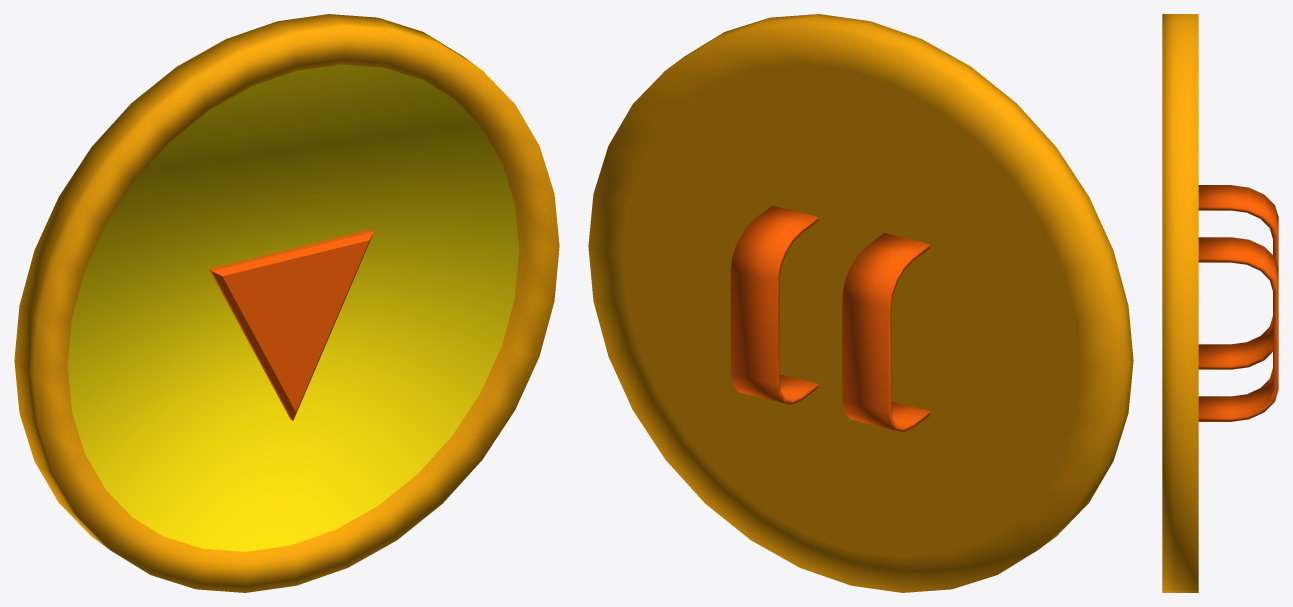
File: Madness Shield.fbx
3 renders of one model, left to right at view 1: azimuth 30°, elevation 25°; view 2: azimuth 150°, elevation 25°; view 3: azimuth 270°, elevation 25°, orthographic. The views are drawn at different scales.
Visible parts, largest first — view 1: Shield, Shield Logo; view 2: Shield, Shield Holders; view 3: Shield, Shield Holders.
Part boxes in pixels (x1,y1,x2,y2): Shield: (14,14,559,592); Shield Logo: (209,229,373,420); Shield: (588,14,1133,592); Shield Holders: (730,205,930,431); Shield: (1162,14,1198,592); Shield Holders: (1198,185,1278,421).
Bounding box in the file's own units: 90 × 90 × 18.1.
